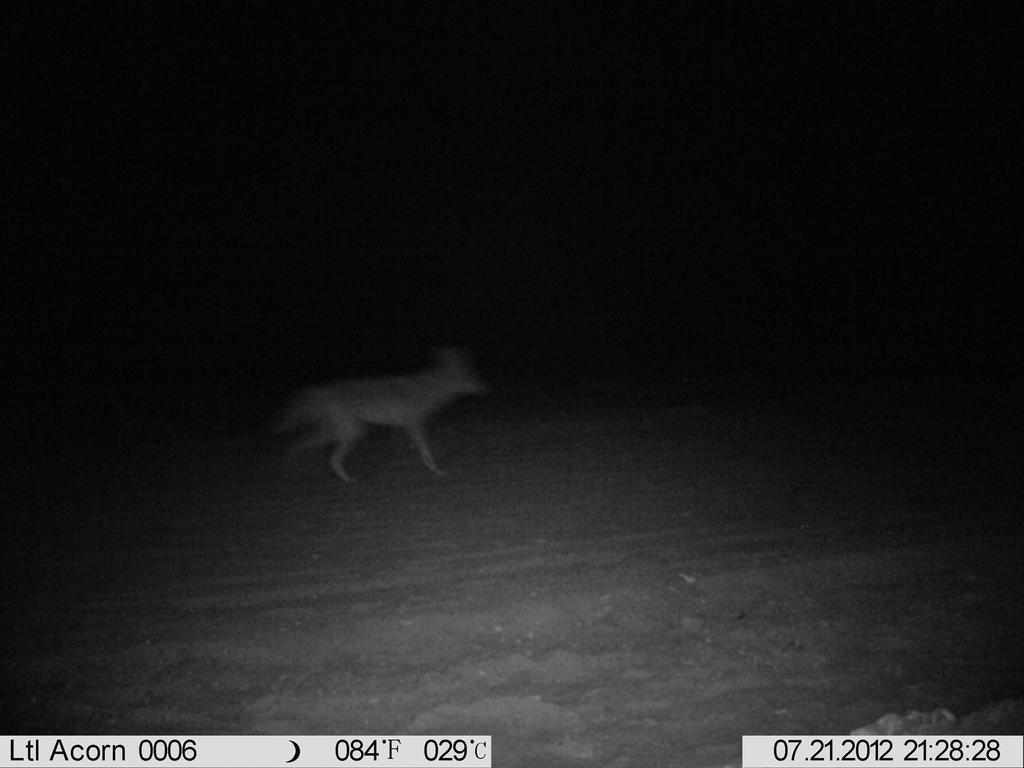coyote: (268, 342, 498, 491)
